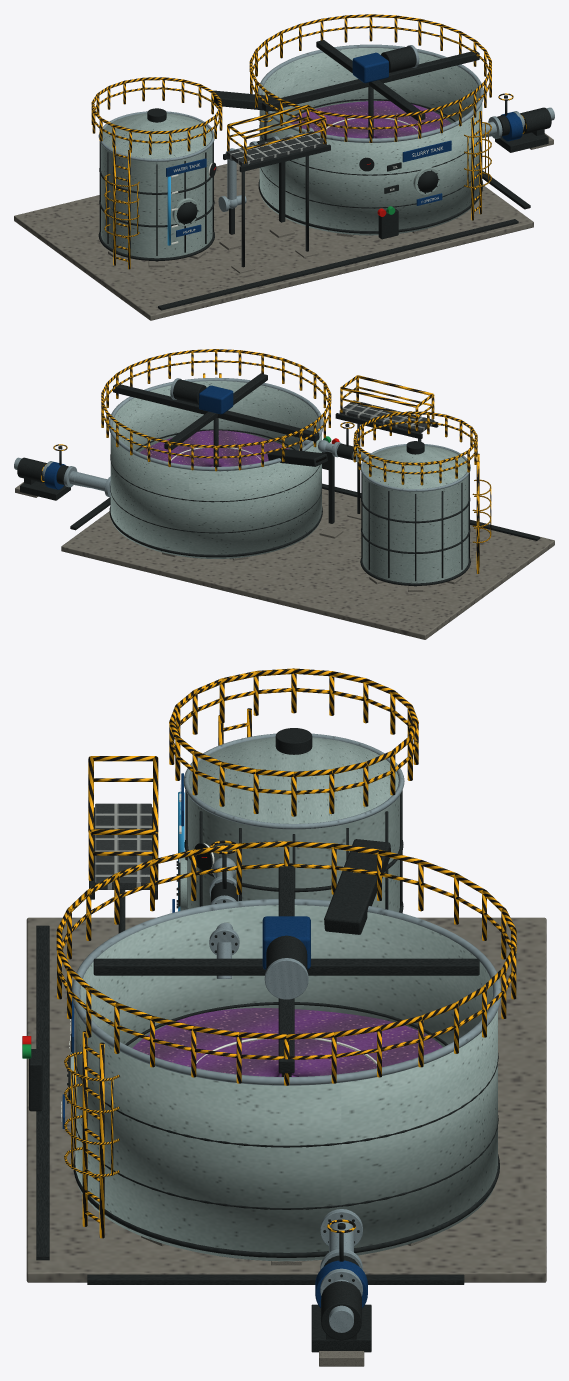
File: level3_slurry_water_tanks_industrial_uv.fbx
3 views of the same model, one above another, from view 1: azimuth 30°, elevation 25°; view 2: azimuth 150°, elevation 25°; view 3: azimuth 270°, elevation 25° (orthographic). The views are drawn at different scales.
Visible parts, largest first — view 1: L3_TankArea_ConcretePad, L3_SlurryTank_OpenShell_SmoothSteel, L3_WaterTank_VerticalShell_SmoothSteel, L3_WaterTank_ShallowConicalRoof, L3_SlurryTank_PurpleSlurry_WavySurface_50Percent, L3_TankArea_DrainChannel_Front, L3_SlurryTank_AgitatorBridge_PrimaryBeam, L3_SlurryTank_HeavyTopRimPipe, L3_TankArea_BetweenTanks_GratingCatwalk, L3_SlurryTank_AgitatorBridge_CrossBrace, L3_SlurryTank_AgitatorGearbox_Rounded, L3_SlurryTank_InclinedOreFeedChute (+16 smaller); view 2: L3_SlurryTank_OpenShell_SmoothSteel, L3_TankArea_ConcretePad, L3_WaterTank_VerticalShell_SmoothSteel, L3_WaterTank_ShallowConicalRoof, L3_SlurryTank_PurpleSlurry_WavySurface_50Percent, L3_SlurryTank_AgitatorBridge_PrimaryBeam, L3_SlurryTank_HeavyTopRimPipe, L3_TankArea_BetweenTanks_GratingCatwalk, L3_SlurryTank_AgitatorBridge_CrossBrace, L3_SlurryTank_AgitatorGearbox_Rounded, L3_SlurryTank_BottomReinforcementRing, L3_SlurryTank_InclinedOreFeedChute (+11 smaller); view 3: L3_SlurryTank_OpenShell_SmoothSteel, L3_TankArea_ConcretePad, L3_SlurryTank_PurpleSlurry_WavySurface_50Percent, L3_WaterTank_ShallowConicalRoof, L3_WaterTank_VerticalShell_SmoothSteel, L3_SlurryTank_HeavyTopRimPipe, L3_SlurryTank_AgitatorBridge_CrossBrace, L3_TankArea_DrainChannel_Front, L3_TankArea_BetweenTanks_GratingCatwalk, L3_TankArea_DrainChannel_Right, L3_SlurryTank_InclinedOreFeedChute, L3_SlurryTank_BottomReinforcementRing (+14 smaller).
Boxes of the visible parts, x1,y1,x2,y2 form: L3_TankArea_ConcretePad: (14,163,533,320); L3_SlurryTank_OpenShell_SmoothSteel: (259,48,482,235); L3_WaterTank_VerticalShell_SmoothSteel: (101,144,212,258); L3_WaterTank_ShallowConicalRoof: (102,113,211,158); L3_SlurryTank_PurpleSlurry_WavySurface_50Percent: (289,101,450,138); L3_TankArea_DrainChannel_Front: (158,219,518,310); L3_SlurryTank_AgitatorBridge_PrimaryBeam: (262,51,479,111); L3_SlurryTank_HeavyTopRimPipe: (258,44,483,142); L3_TankArea_BetweenTanks_GratingCatwalk: (227,131,326,165); L3_SlurryTank_AgitatorBridge_CrossBrace: (316,40,425,120); L3_SlurryTank_AgitatorGearbox_Rounded: (352,52,388,83); L3_SlurryTank_InclinedOreFeedChute: (213,90,279,111); L3_SlurryTank_OpenShell_SmoothSteel: (110,381,321,558); L3_TankArea_ConcretePad: (61,488,554,639); L3_WaterTank_VerticalShell_SmoothSteel: (362,475,468,583); L3_WaterTank_ShallowConicalRoof: (363,445,467,488); L3_SlurryTank_PurpleSlurry_WavySurface_50Percent: (139,430,289,466); L3_SlurryTank_AgitatorBridge_PrimaryBeam: (113,384,319,441); L3_SlurryTank_HeavyTopRimPipe: (109,377,323,471); L3_TankArea_BetweenTanks_GratingCatwalk: (339,400,434,433); L3_SlurryTank_AgitatorBridge_CrossBrace: (164,373,267,450); L3_SlurryTank_AgitatorGearbox_Rounded: (199,385,233,414); L3_SlurryTank_BottomReinforcementRing: (109,505,322,557); L3_SlurryTank_InclinedOreFeedChute: (267,449,327,466); L3_SlurryTank_OpenShell_SmoothSteel: (75,905,497,1260); L3_TankArea_ConcretePad: (26,917,546,1282); L3_SlurryTank_PurpleSlurry_WavySurface_50Percent: (132,1008,442,1076); L3_WaterTank_ShallowConicalRoof: (189,737,398,823); L3_WaterTank_VerticalShell_SmoothSteel: (188,795,399,912); L3_SlurryTank_HeavyTopRimPipe: (72,899,501,1085); L3_SlurryTank_AgitatorBridge_CrossBrace: (93,958,479,975); L3_TankArea_DrainChannel_Front: (36,925,49,1260); L3_TankArea_BetweenTanks_GratingCatwalk: (95,803,151,889); L3_TankArea_DrainChannel_Right: (87,1274,464,1284); L3_SlurryTank_InclinedOreFeedChute: (324,839,390,934); L3_SlurryTank_BottomReinforcementRing: (73,1154,499,1257).
Size of the model in its own units: 1450 by 420 by 716.
1 material, 1 textured.
